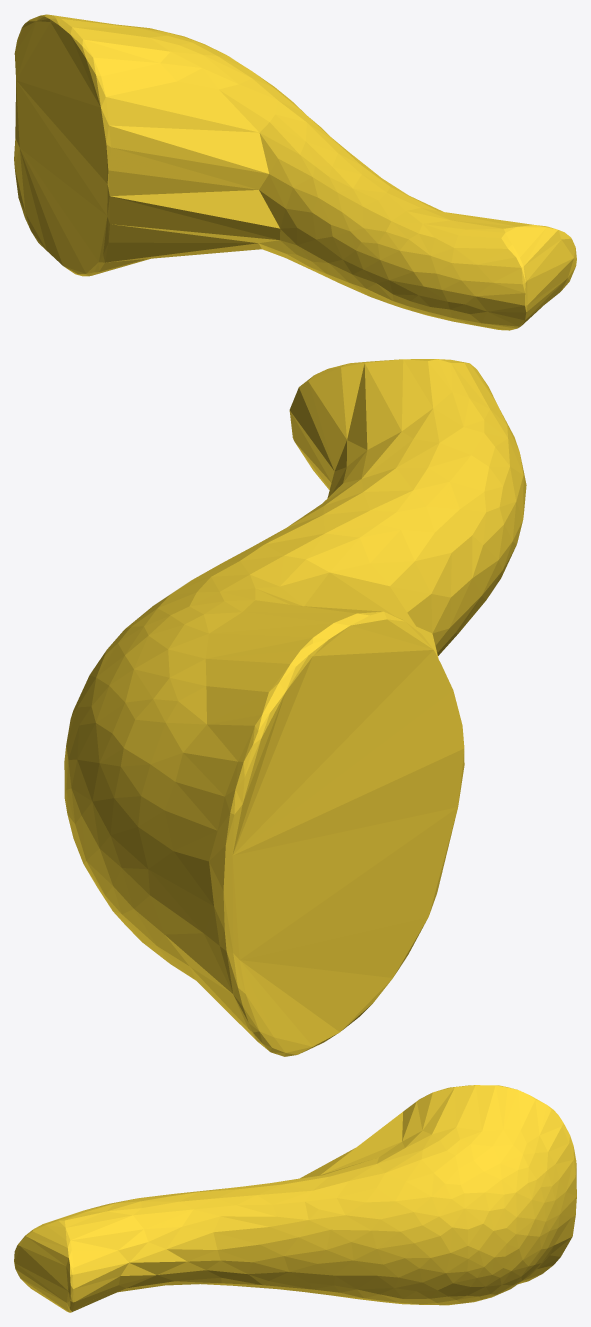
The model's file is part_4_Spout_wrapped.obj.
3 renders of one model, top to bottom at view 1: azimuth 30°, elevation 25°; view 2: azimuth 150°, elevation 25°; view 3: azimuth 270°, elevation 25°, orthographic. The views are drawn at different scales.
Parts seen in each view (by area): view 1: part_4_Spout_wrapped; view 2: part_4_Spout_wrapped; view 3: part_4_Spout_wrapped.
Boxes of the visible parts, x1,y1,x2,y2 form: part_4_Spout_wrapped: (14,14,576,330); part_4_Spout_wrapped: (64,359,526,1056); part_4_Spout_wrapped: (14,1085,576,1312).
Bounding box in the file's own units: 0.232 × 0.1872 × 0.4694.
